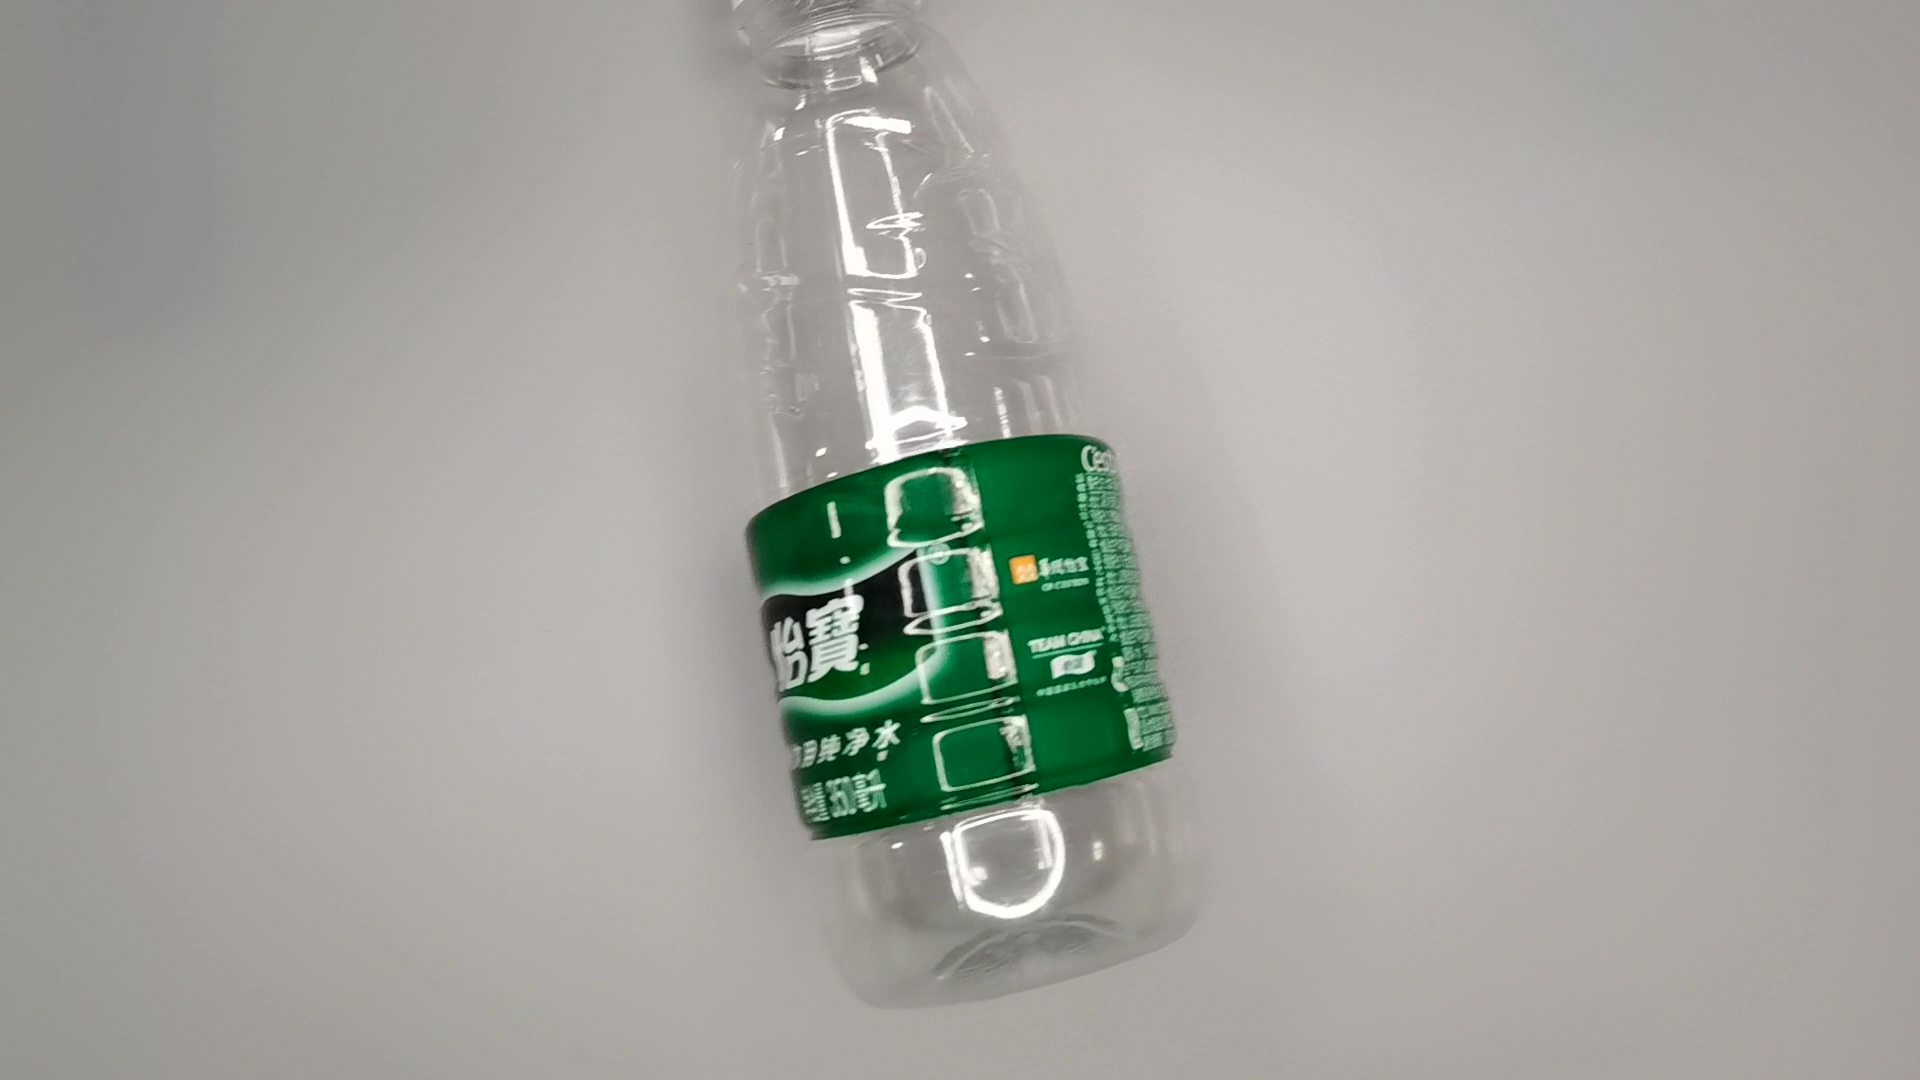bottle: (707, 1, 1218, 1019)
